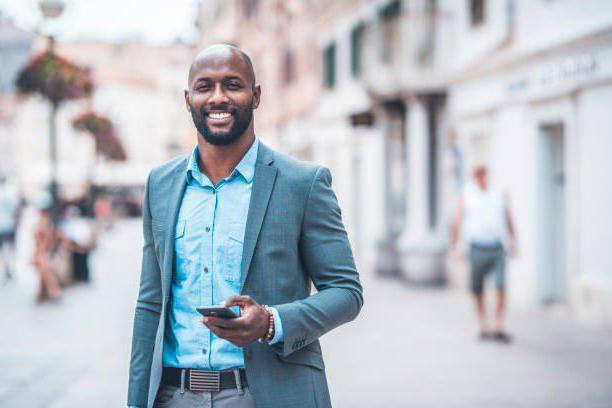Sober: (194, 54, 246, 144)
